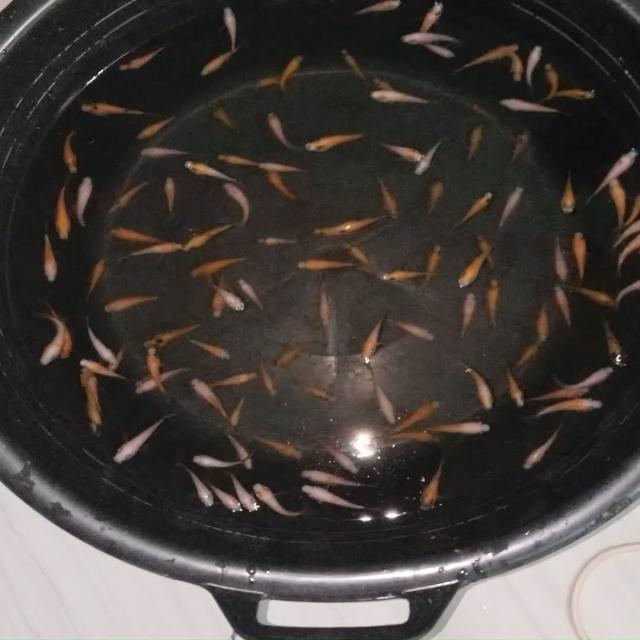nila: (107, 416, 175, 466), (589, 143, 640, 200), (376, 396, 443, 438), (312, 429, 364, 478), (451, 40, 526, 72), (296, 484, 374, 514), (188, 375, 234, 424), (457, 238, 499, 290), (252, 479, 305, 519), (363, 368, 399, 426), (132, 362, 190, 398), (32, 308, 67, 367), (299, 460, 367, 490), (302, 125, 372, 154), (446, 190, 496, 230), (181, 157, 247, 187), (460, 360, 498, 411), (188, 250, 252, 280), (217, 178, 255, 228), (363, 86, 442, 110), (227, 466, 266, 514), (105, 178, 154, 216), (48, 301, 78, 363), (115, 41, 168, 76), (178, 463, 215, 512), (146, 341, 176, 401), (82, 315, 119, 363), (78, 388, 112, 440), (264, 110, 304, 154), (522, 424, 561, 469), (142, 323, 202, 352), (75, 254, 108, 306), (417, 457, 448, 512), (246, 431, 302, 461), (72, 172, 100, 232), (558, 364, 618, 391), (366, 428, 446, 448), (234, 270, 272, 312), (223, 426, 259, 470), (108, 226, 180, 248), (372, 174, 404, 223), (184, 220, 233, 252), (102, 292, 162, 318), (79, 354, 137, 380), (274, 51, 306, 98), (206, 280, 250, 314), (114, 239, 184, 260), (192, 450, 258, 472), (494, 184, 524, 232), (598, 318, 628, 366), (206, 480, 246, 516), (79, 362, 109, 410), (265, 168, 306, 203), (529, 384, 594, 406), (602, 177, 630, 228), (199, 46, 240, 80), (500, 94, 558, 118), (409, 136, 442, 178), (389, 316, 442, 342), (550, 278, 577, 328), (360, 314, 388, 362), (50, 186, 74, 242), (332, 212, 390, 235), (134, 110, 178, 140), (391, 28, 464, 46), (294, 377, 346, 402), (77, 102, 148, 120), (568, 227, 592, 280), (272, 338, 308, 373), (39, 225, 61, 282), (530, 400, 608, 416), (502, 366, 531, 409), (424, 421, 496, 438), (419, 241, 442, 294), (379, 265, 437, 286), (220, 3, 242, 58), (294, 256, 354, 276), (414, 1, 448, 36), (513, 338, 548, 372), (456, 288, 478, 342), (206, 369, 264, 389), (209, 101, 243, 135), (464, 120, 488, 168), (378, 138, 426, 162), (218, 148, 266, 172), (58, 125, 81, 174), (253, 157, 304, 179), (504, 126, 532, 166), (534, 290, 554, 346), (484, 276, 504, 332), (190, 338, 236, 362), (550, 227, 570, 280), (572, 283, 612, 309), (502, 44, 525, 89), (338, 47, 368, 81), (258, 359, 282, 401), (420, 39, 460, 64), (344, 0, 402, 17), (343, 242, 378, 270), (524, 44, 544, 92), (137, 144, 196, 160), (424, 176, 447, 217), (476, 233, 500, 272), (539, 62, 561, 104), (609, 220, 640, 248), (316, 282, 334, 330), (212, 272, 228, 326), (614, 236, 640, 268), (222, 396, 248, 428), (560, 170, 577, 218), (547, 86, 597, 102), (250, 74, 292, 92), (160, 174, 177, 218), (622, 189, 640, 228), (370, 73, 398, 97), (613, 278, 640, 302), (107, 344, 126, 376), (308, 224, 351, 238), (257, 235, 301, 248)
